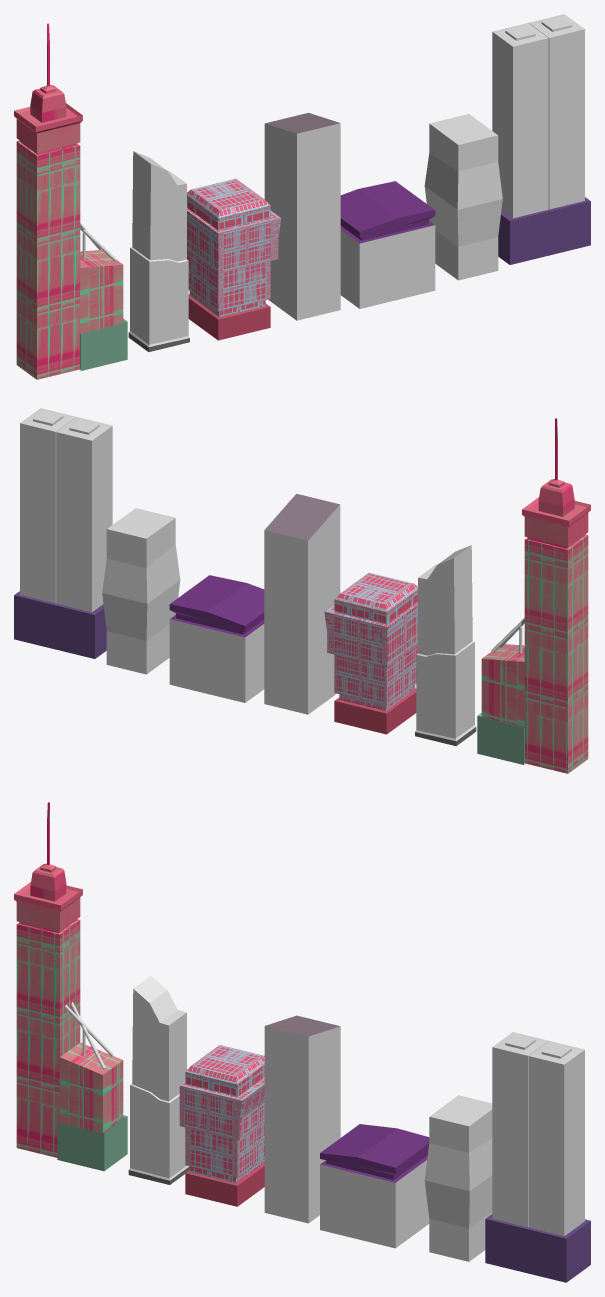
The model's file is Skyscrapers.fbx.
3 renders of one model, top to bottom at view 1: azimuth 30°, elevation 25°; view 2: azimuth 150°, elevation 25°; view 3: azimuth 330°, elevation 25°, orthographic.
Visible parts, largest first — view 1: Section of Tall Skyscraper, Cube.008, Long Building, Shaped Building, Medium Building, Flat building, Skyscraper 1; view 2: Section of Tall Skyscraper, Cube.008, Long Building, Shaped Building, Medium Building, Flat building, Skyscraper 1; view 3: Section of Tall Skyscraper, Cube.008, Long Building, Shaped Building, Flat building, Skyscraper 1, Medium Building.
Part boxes in pixels (box(x1,y1,x2,y2)): Section of Tall Skyscraper: box(14, 23, 127, 379); Cube.008: box(492, 14, 590, 264); Long Building: box(264, 112, 340, 320); Shaped Building: box(187, 178, 281, 340); Medium Building: box(424, 114, 502, 280); Flat building: box(340, 181, 435, 308); Skyscraper 1: box(128, 151, 189, 351); Section of Tall Skyscraper: box(477, 418, 590, 773); Cube.008: box(14, 408, 112, 658); Long Building: box(264, 493, 340, 714); Shaped Building: box(324, 572, 417, 734); Medium Building: box(102, 508, 180, 674); Flat building: box(169, 575, 264, 702); Skyscraper 1: box(415, 545, 476, 745); Section of Tall Skyscraper: box(14, 802, 127, 1171); Cube.008: box(485, 1032, 590, 1282); Long Building: box(264, 1015, 340, 1223); Shaped Building: box(179, 1045, 264, 1206); Flat building: box(320, 1124, 429, 1248); Skyscraper 1: box(128, 975, 189, 1184); Medium Building: box(424, 1095, 492, 1261).
Size of the model in its own units: 29723 by 17620 by 3689.
